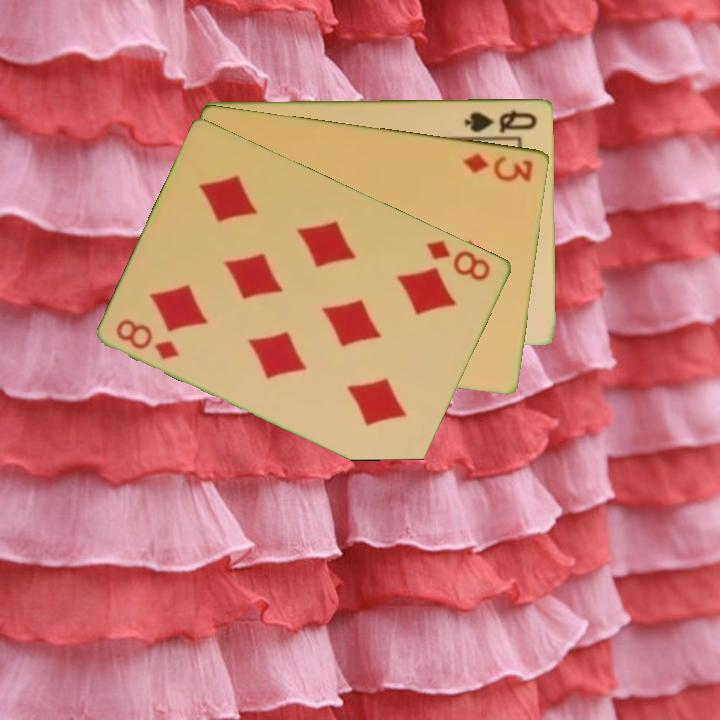3d: (460, 149, 536, 185)
8d: (423, 236, 494, 284), (113, 315, 183, 363)
Qs: (462, 106, 540, 136)
